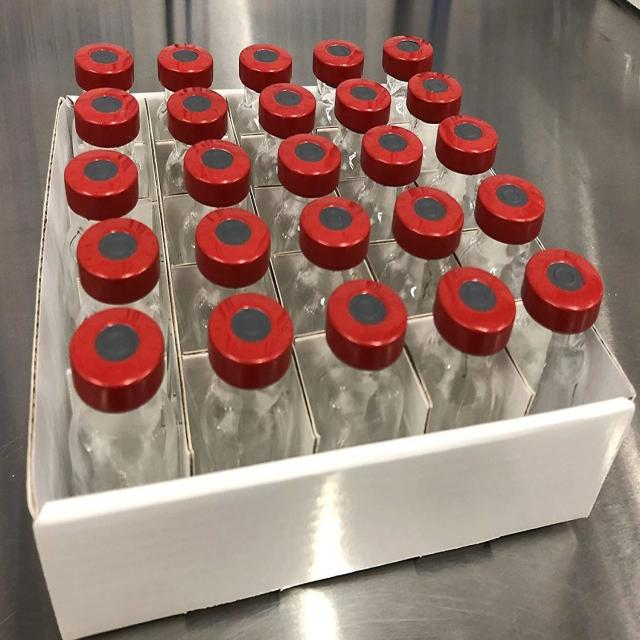vial: (70, 307, 172, 391), (212, 298, 283, 362), (439, 266, 512, 328), (306, 204, 378, 264), (338, 279, 400, 345), (532, 250, 599, 310), (438, 103, 502, 160), (88, 224, 158, 274), (480, 178, 540, 230), (206, 214, 266, 266), (404, 192, 462, 242), (196, 144, 256, 188), (158, 36, 218, 80), (74, 154, 136, 194), (364, 127, 420, 171), (282, 135, 338, 179), (170, 90, 226, 128), (77, 94, 137, 128), (78, 41, 133, 77), (378, 35, 434, 69), (264, 86, 316, 122), (415, 76, 463, 108), (239, 42, 287, 74), (342, 81, 386, 115), (314, 41, 360, 72)
